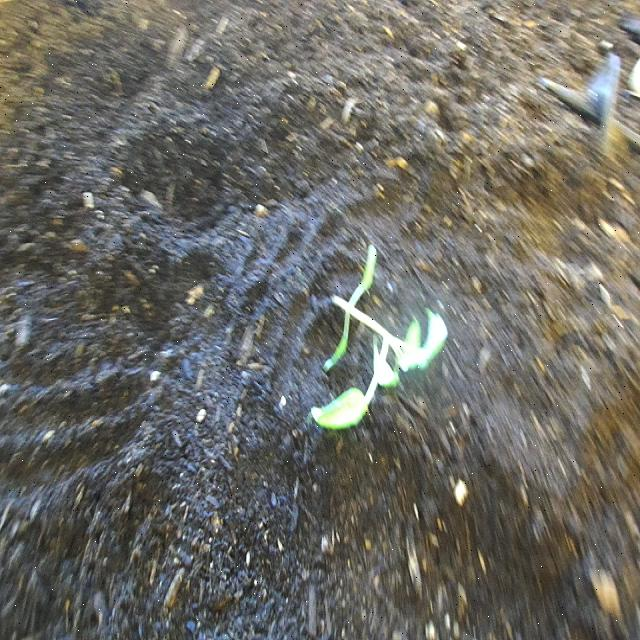Unhealthy: (306, 242, 452, 446)
